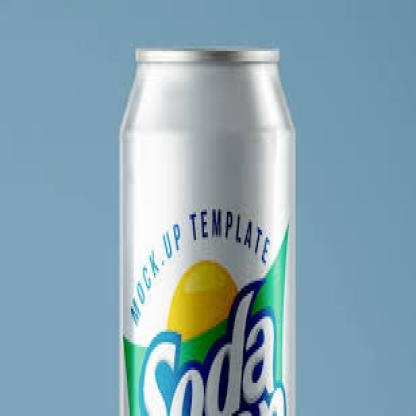trash: (120, 49, 294, 415)
